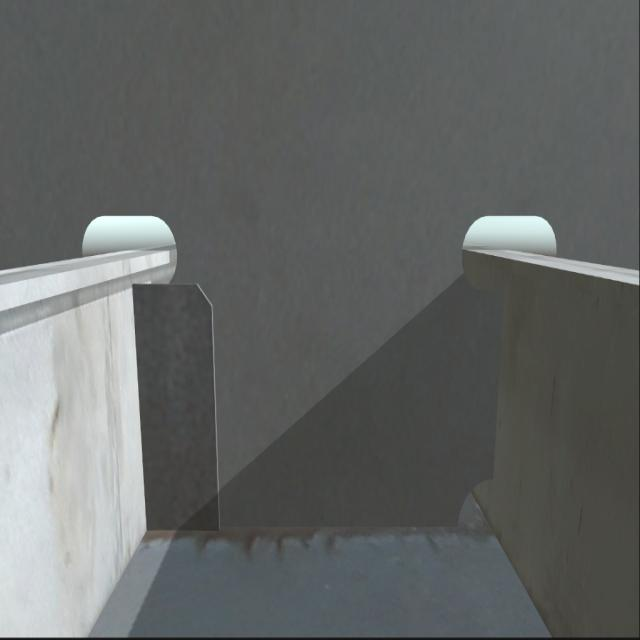fillet_hole: (457, 477, 490, 535)
fillet_yong_jeop_jang: (149, 511, 463, 536)
longi_yong_jeop_jang: (126, 279, 150, 529), (479, 286, 509, 483)
plate_CP03: (140, 277, 220, 535)
